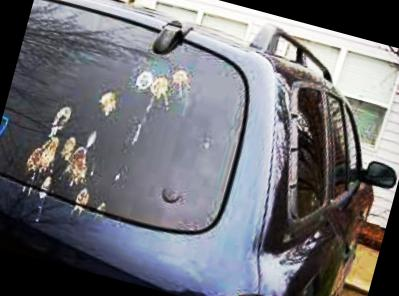Bird Poop: (22, 107, 67, 220), (59, 131, 95, 186), (147, 76, 167, 111), (70, 187, 88, 216), (171, 70, 187, 95), (98, 91, 114, 115), (51, 105, 70, 125), (87, 201, 105, 217), (134, 73, 151, 89), (161, 189, 178, 201), (131, 124, 140, 141), (48, 129, 55, 134), (115, 174, 119, 179)
